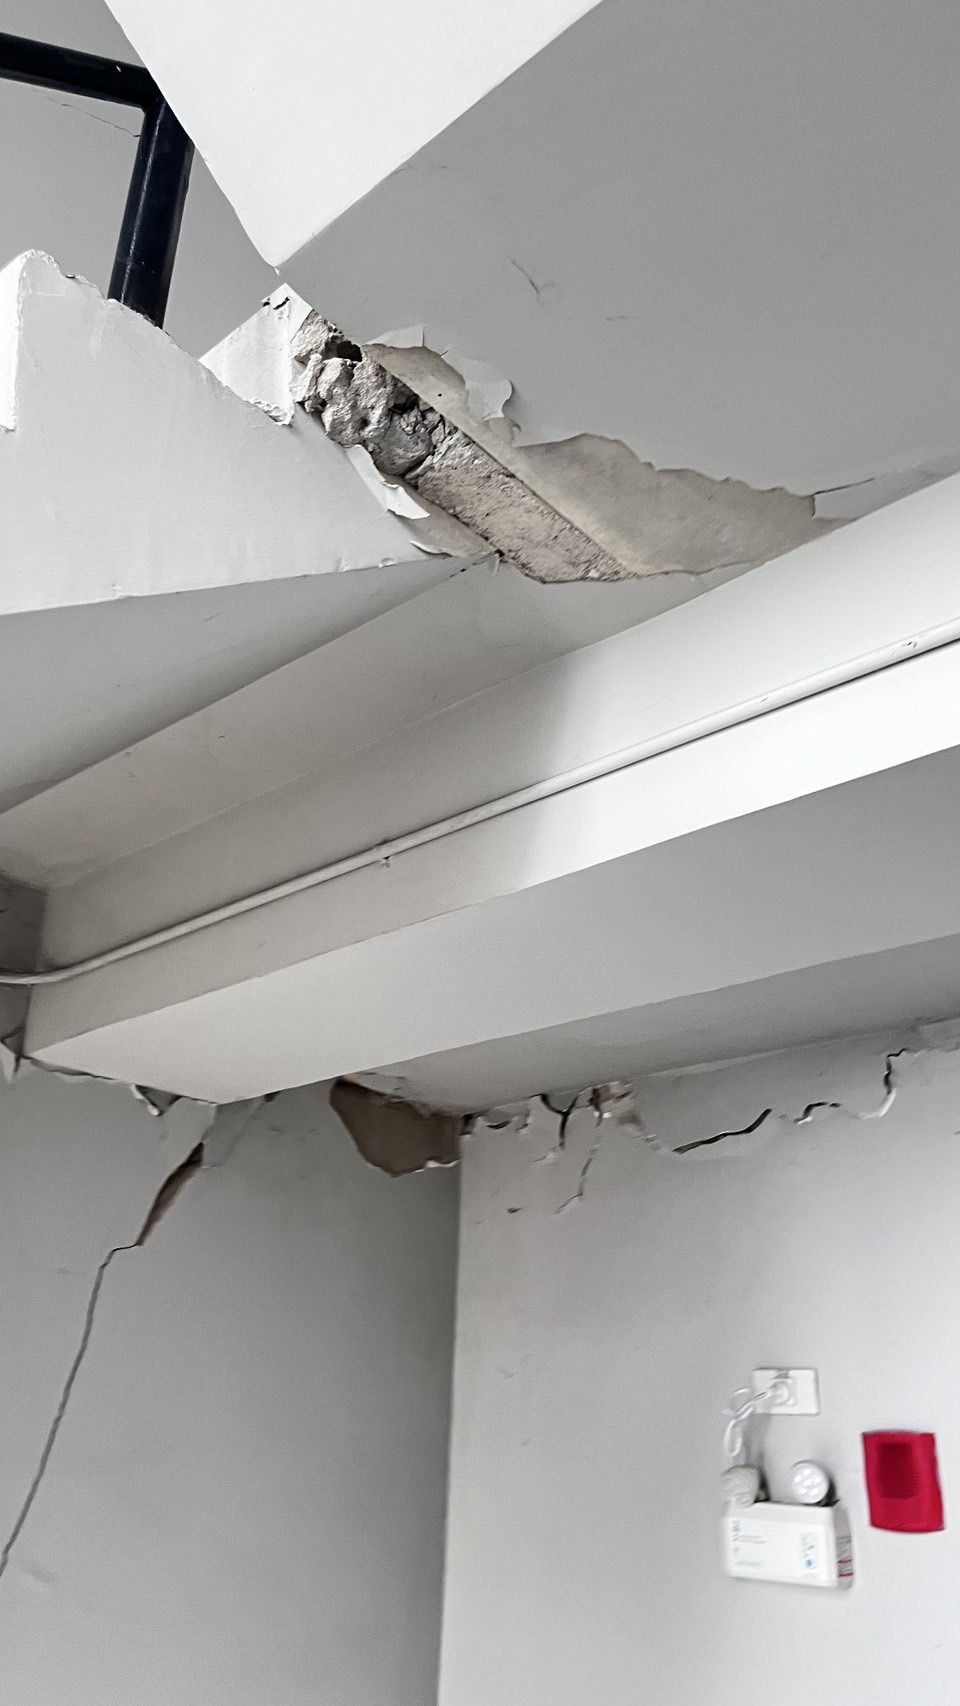Medium: (297, 330, 819, 621)
